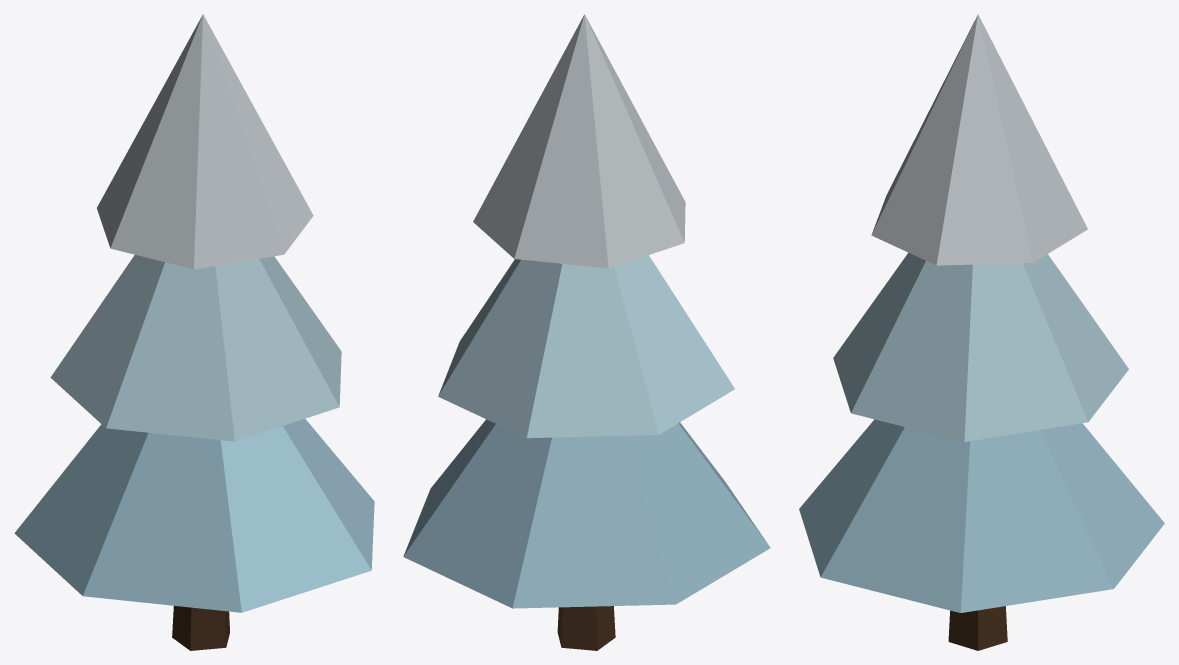
The model's file is TreeSnowConifer_A.fbx.
The picture shows the model from 3 angles, left to right: view 1: azimuth 30°, elevation 25°; view 2: azimuth 150°, elevation 25°; view 3: azimuth 270°, elevation 25°; orthographic projection.
Parts seen in each view (by area): view 1: TreeSnowConifer_A; view 2: TreeSnowConifer_A; view 3: TreeSnowConifer_A.
Boxes of the visible parts, bbox=[...] form: TreeSnowConifer_A: bbox=[14, 14, 374, 650]; TreeSnowConifer_A: bbox=[403, 14, 770, 650]; TreeSnowConifer_A: bbox=[799, 14, 1164, 650].
Size of the model in its own units: 2223 by 4200 by 2233.
